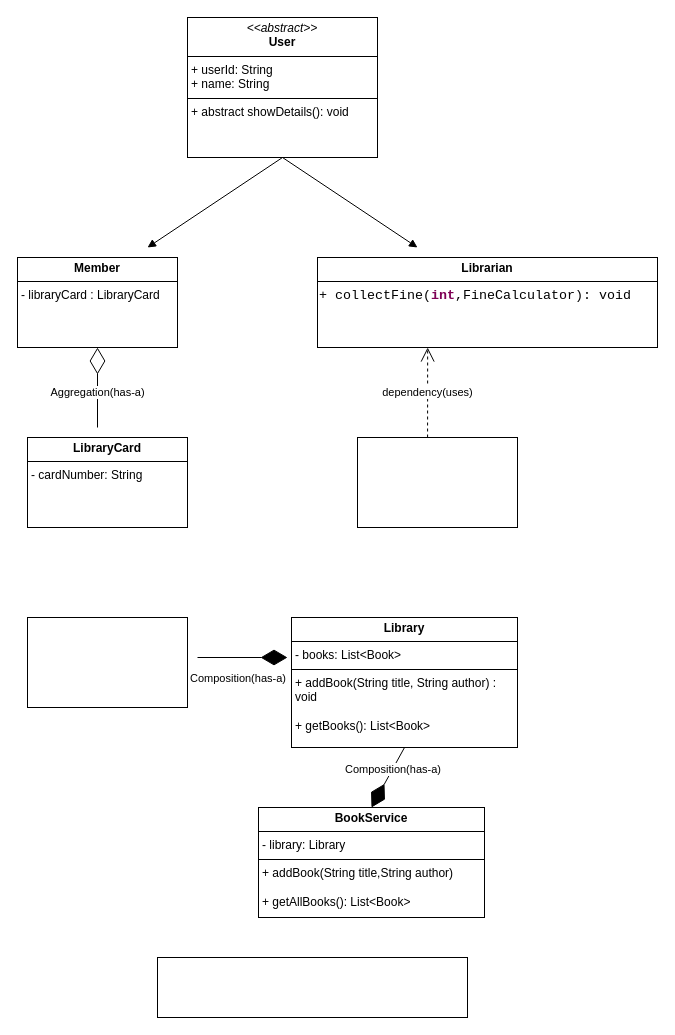
This 675x1035 diagram has some shape labels left out. The centre of each missing label's shape, as x and y in pixels:
Book - title: String - author: String - isIssued: boolean: (107,662)
FineCalculator + calculateFine(int): int: (437,482)
LibraryManagementSystem (Main) Calls various methods & objects: (312,987)
